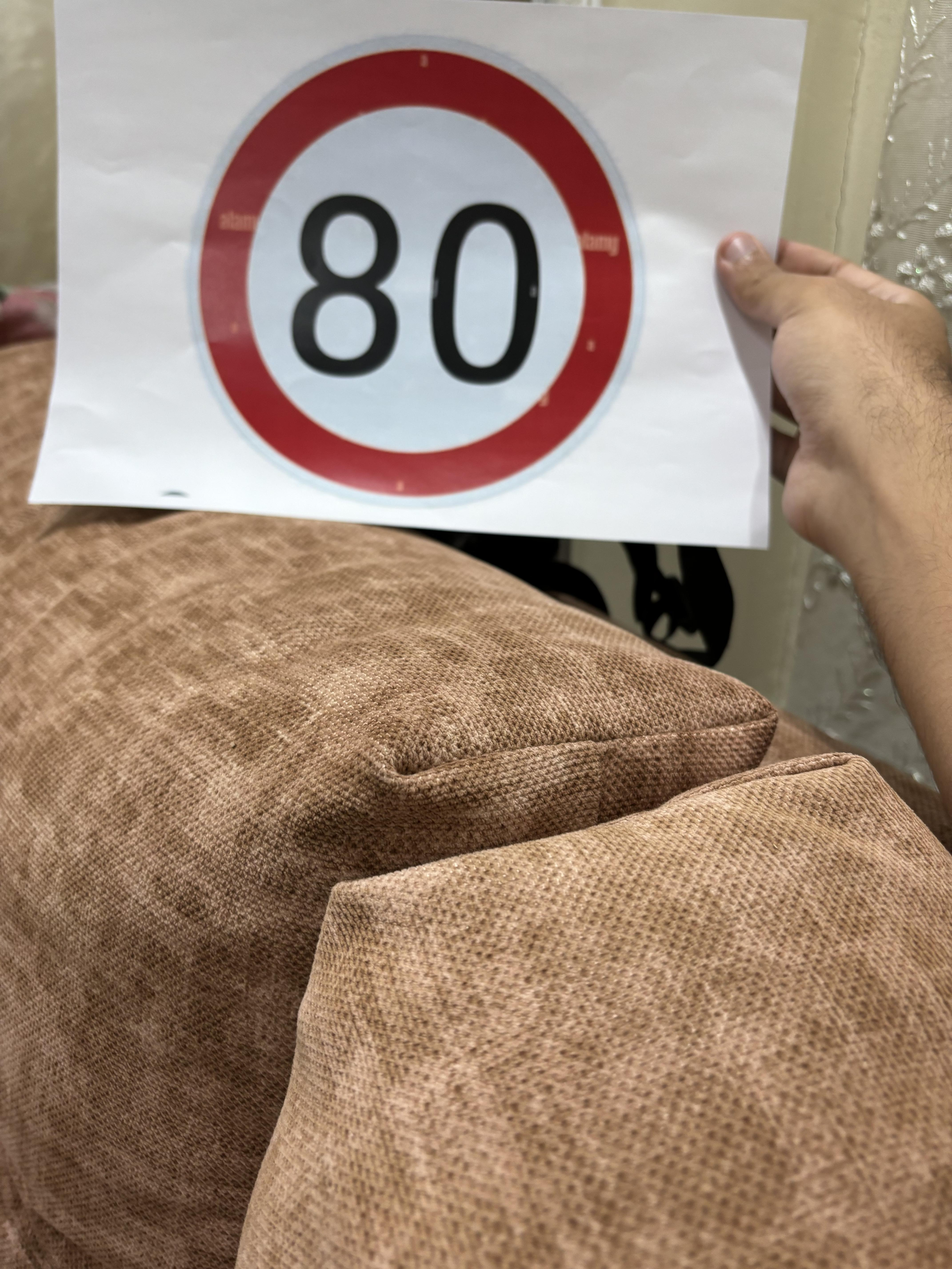80-Speed: (185, 34, 637, 495)
